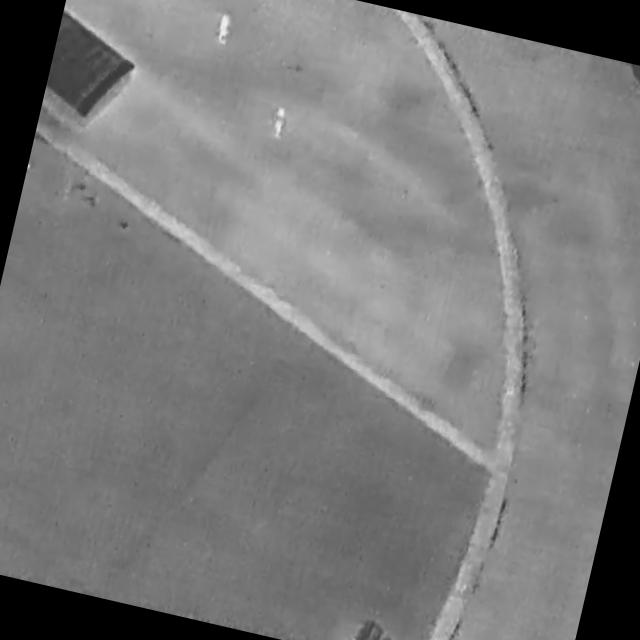person: (214, 10, 235, 46), (270, 105, 291, 138)
